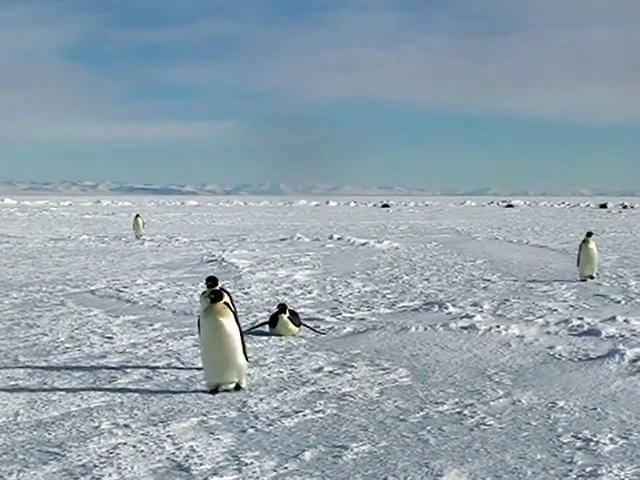animal: (245, 304, 304, 336)
